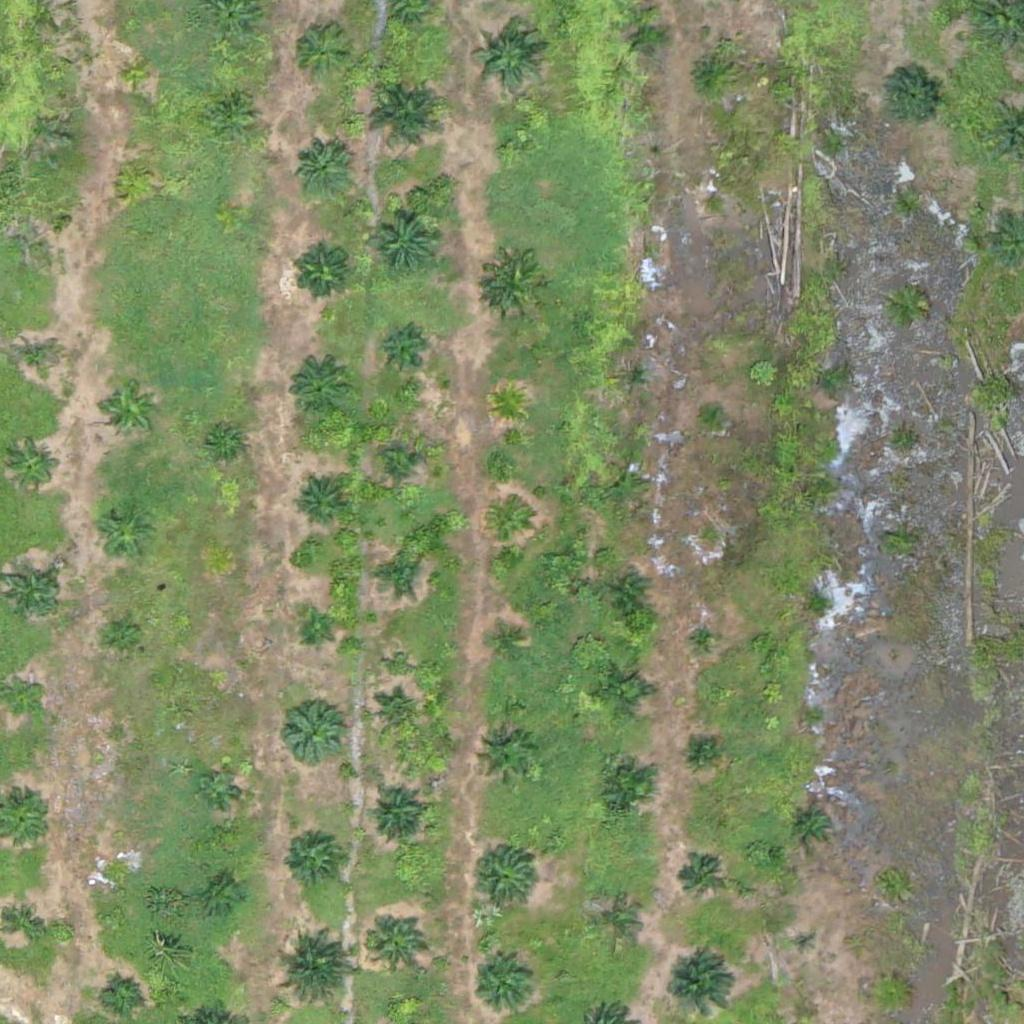Kelapa_Sawit: (363, 71, 450, 159), (471, 22, 546, 98), (274, 934, 349, 1009), (366, 202, 441, 277), (280, 698, 343, 761), (91, 502, 154, 565), (289, 20, 352, 83), (292, 137, 355, 200), (881, 62, 944, 125), (483, 254, 546, 317), (98, 379, 161, 442), (281, 825, 343, 888), (1, 561, 63, 624), (286, 357, 348, 420), (290, 240, 352, 303), (364, 782, 426, 845), (474, 726, 536, 789), (594, 759, 656, 822), (472, 846, 534, 909), (476, 957, 538, 1020), (366, 911, 428, 974), (593, 660, 655, 723), (7, 440, 57, 491), (292, 478, 342, 529), (369, 548, 419, 599), (621, 12, 671, 63), (683, 47, 733, 98), (675, 852, 725, 903), (11, 334, 61, 385), (373, 328, 423, 378), (206, 87, 256, 137), (590, 897, 640, 947), (789, 800, 839, 850), (370, 691, 420, 741), (374, 442, 424, 492), (489, 385, 527, 423), (873, 974, 911, 1012), (687, 622, 725, 660), (611, 574, 649, 612), (491, 507, 529, 545), (490, 627, 528, 665), (607, 465, 645, 503), (119, 57, 157, 95), (115, 157, 153, 195), (206, 428, 244, 466), (2, 680, 40, 718), (100, 863, 138, 901), (6, 905, 44, 943), (205, 879, 242, 917), (105, 977, 143, 1014), (616, 359, 653, 397), (297, 611, 334, 649), (22, 209, 59, 247), (105, 617, 142, 654), (200, 767, 237, 804), (689, 738, 714, 764), (701, 399, 726, 424), (698, 190, 723, 215), (499, 137, 524, 162), (793, 928, 818, 953)
